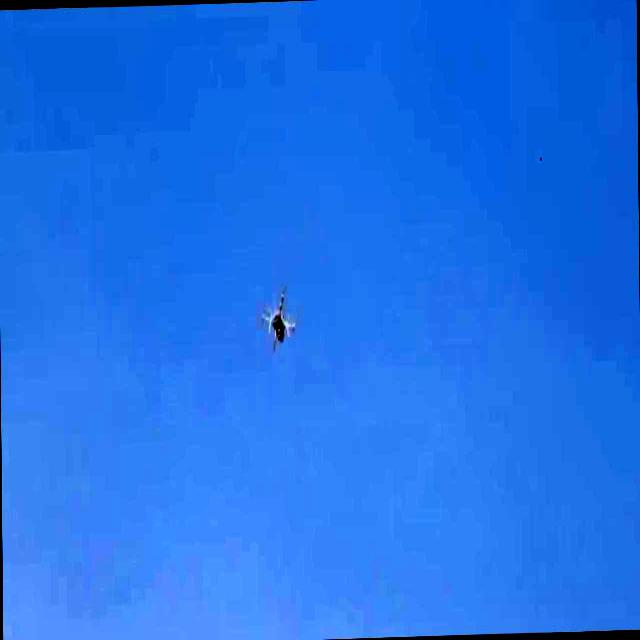drone: (261, 282, 296, 348)
